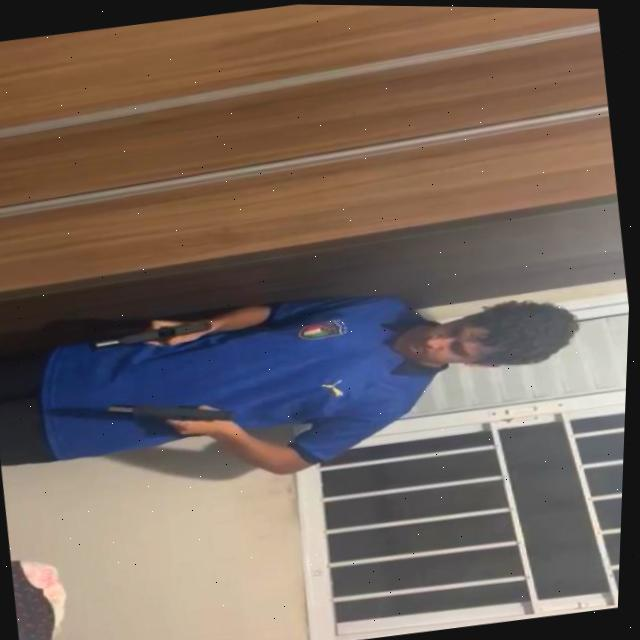gun: (109, 386, 243, 438), (92, 316, 218, 351)
